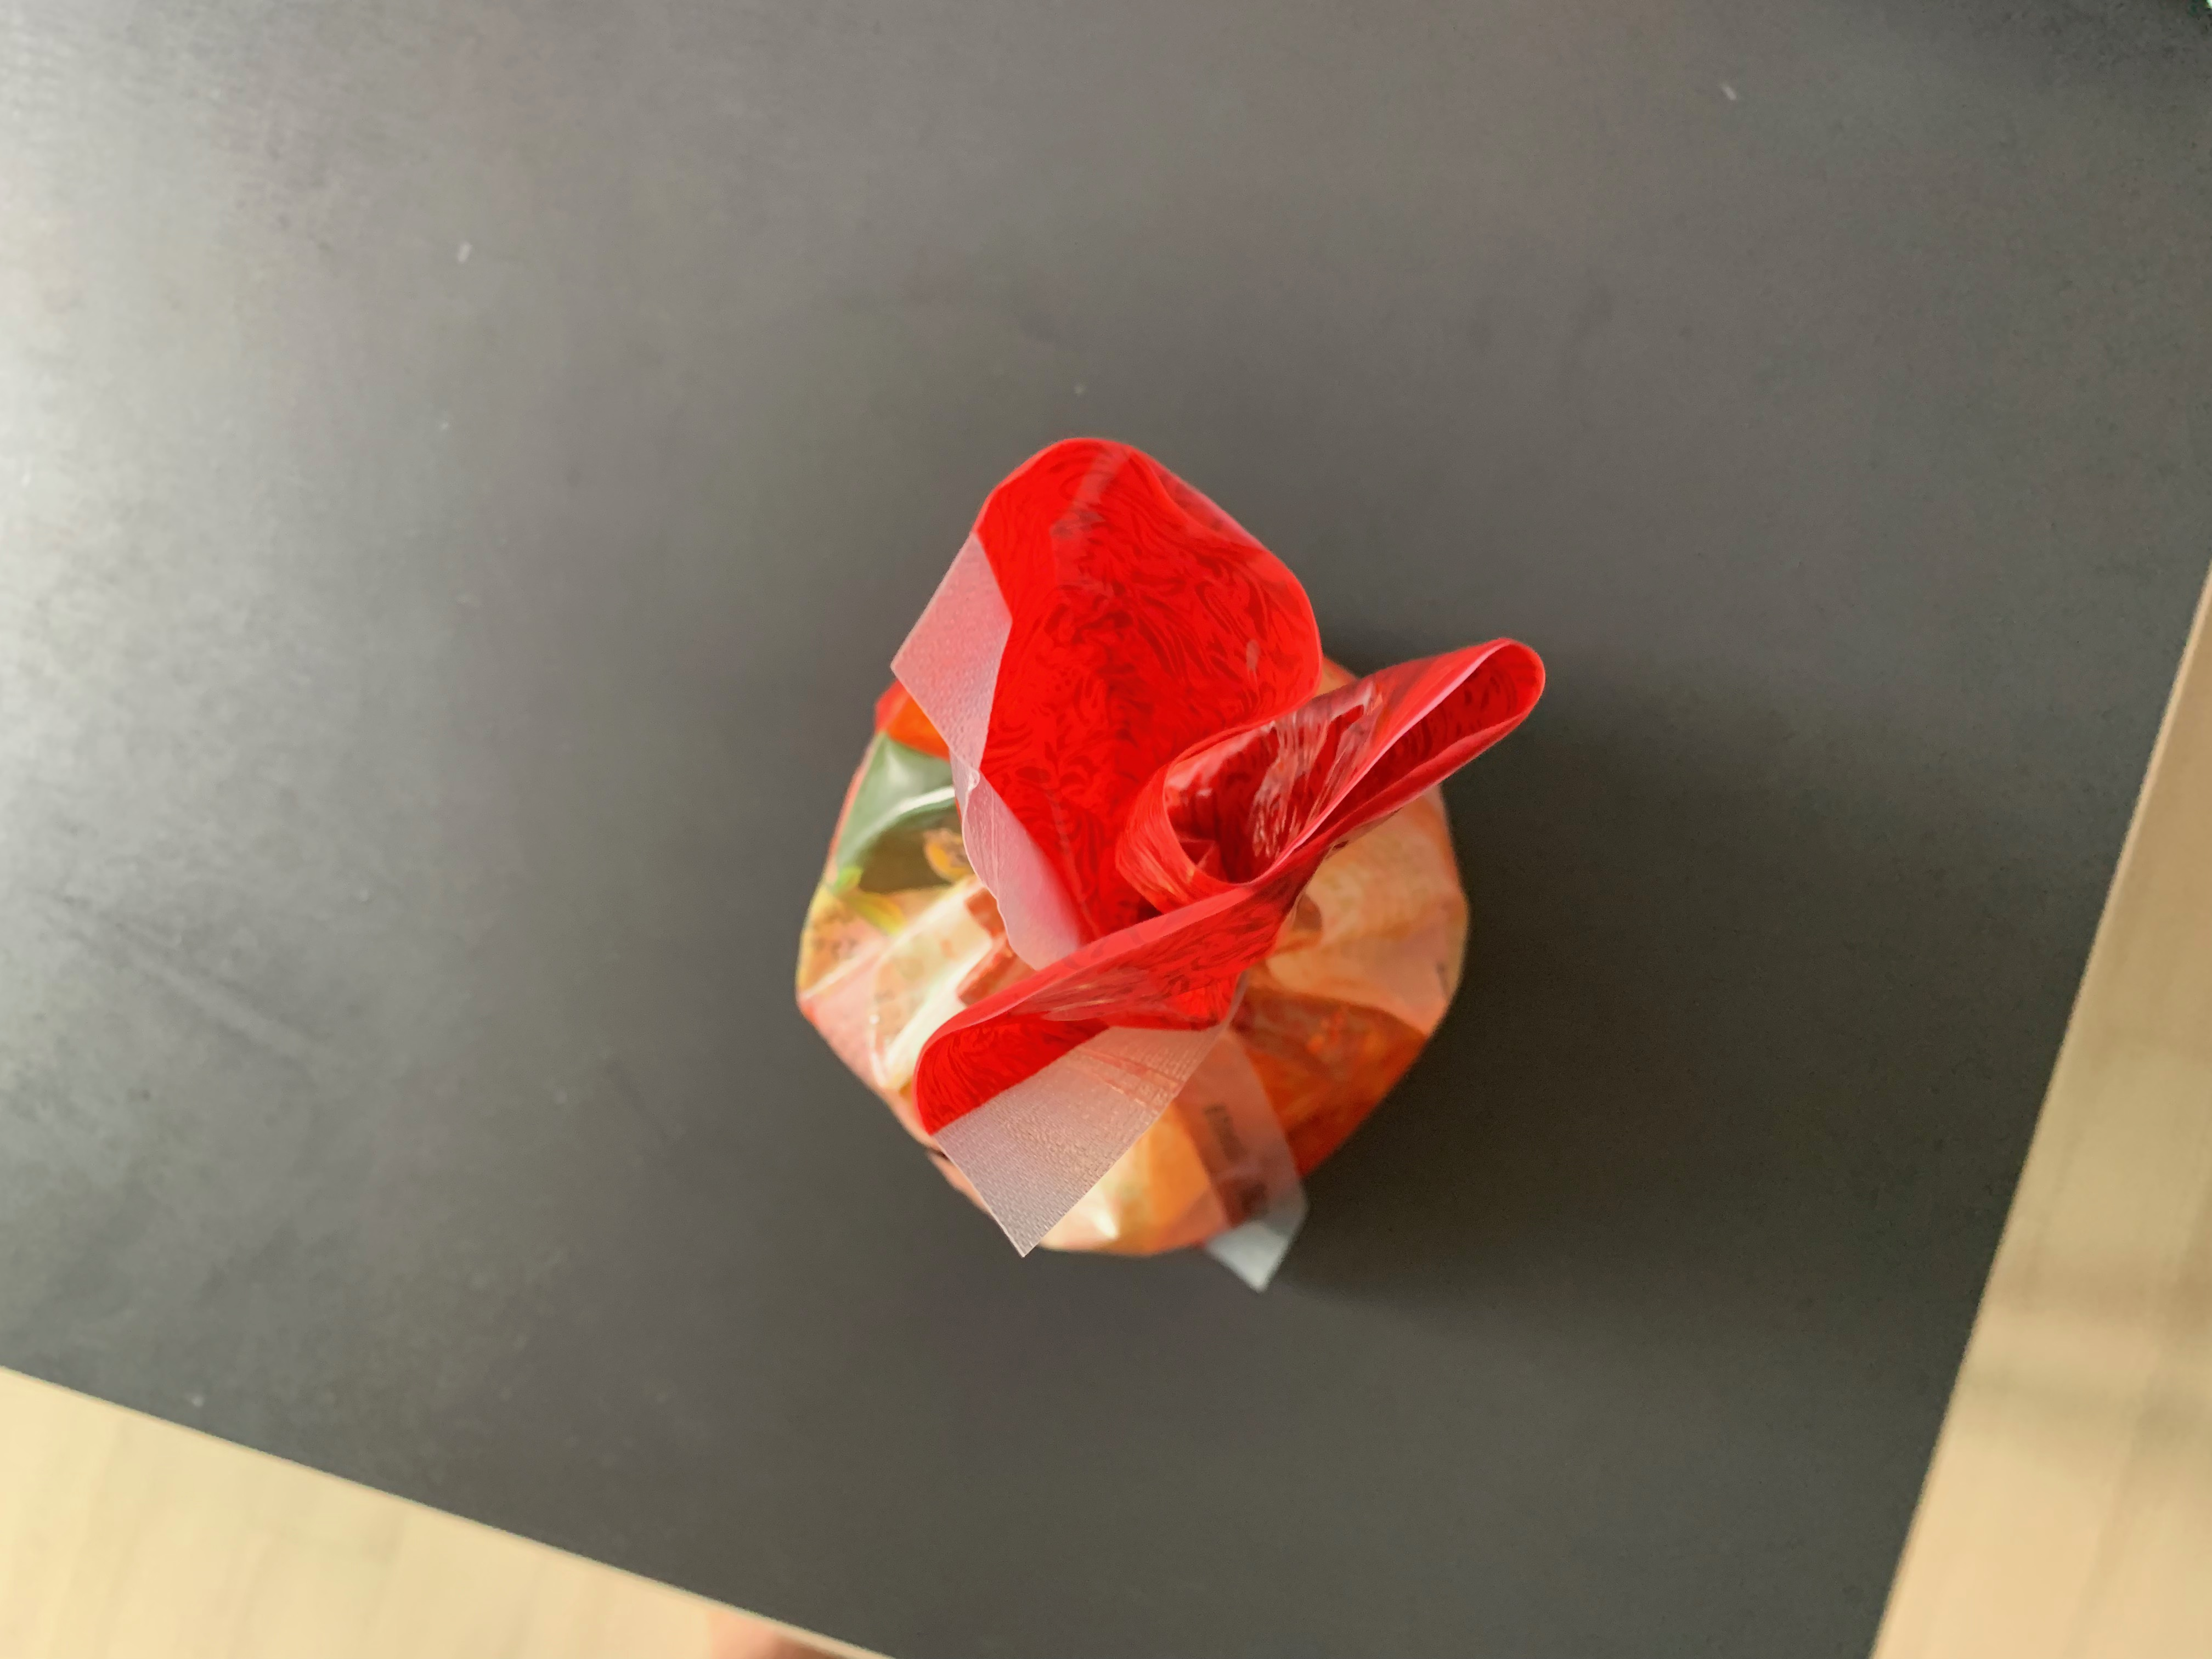kimchi: (794, 434, 1543, 1253)
